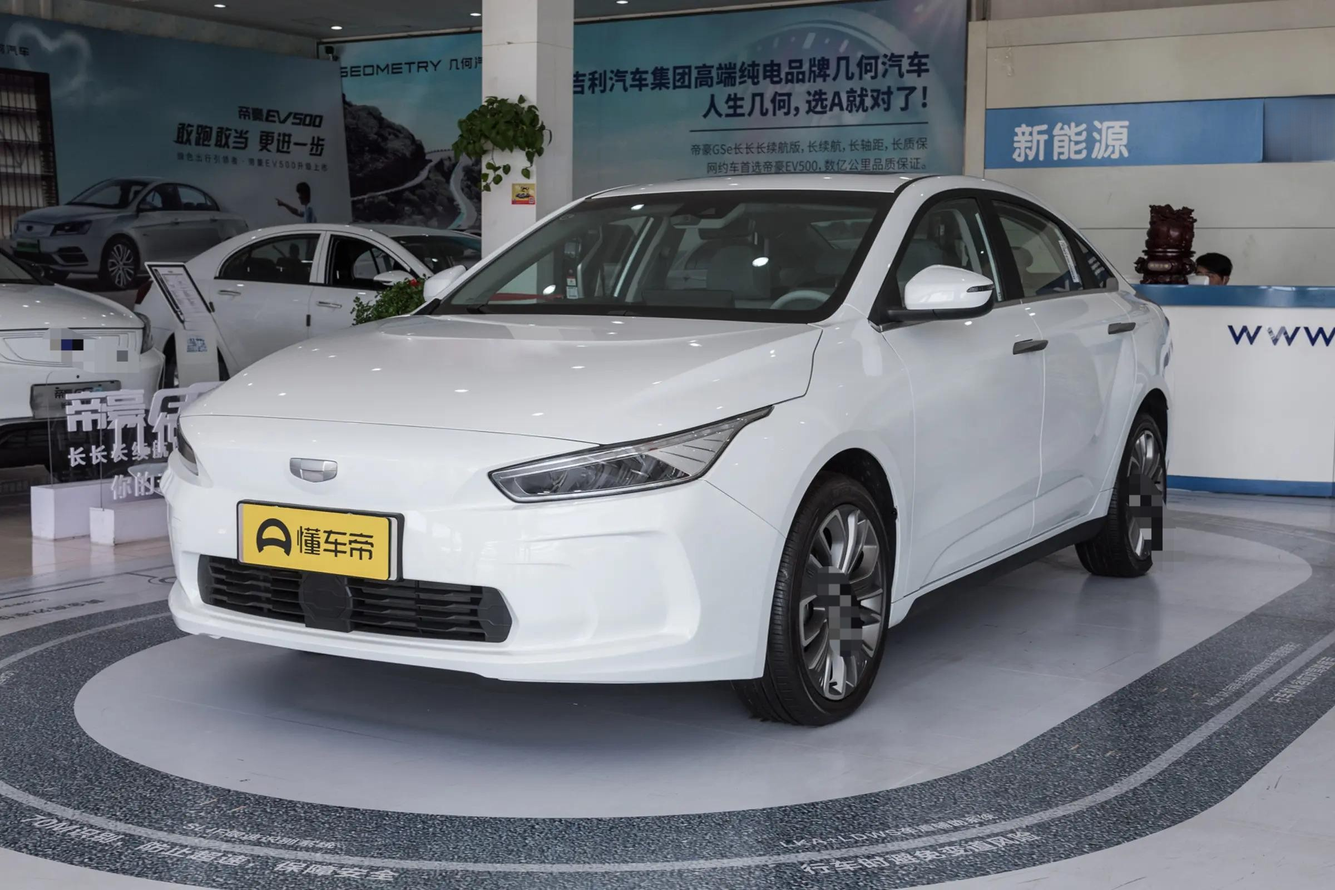GEOMETRY: (290, 458, 337, 482)
